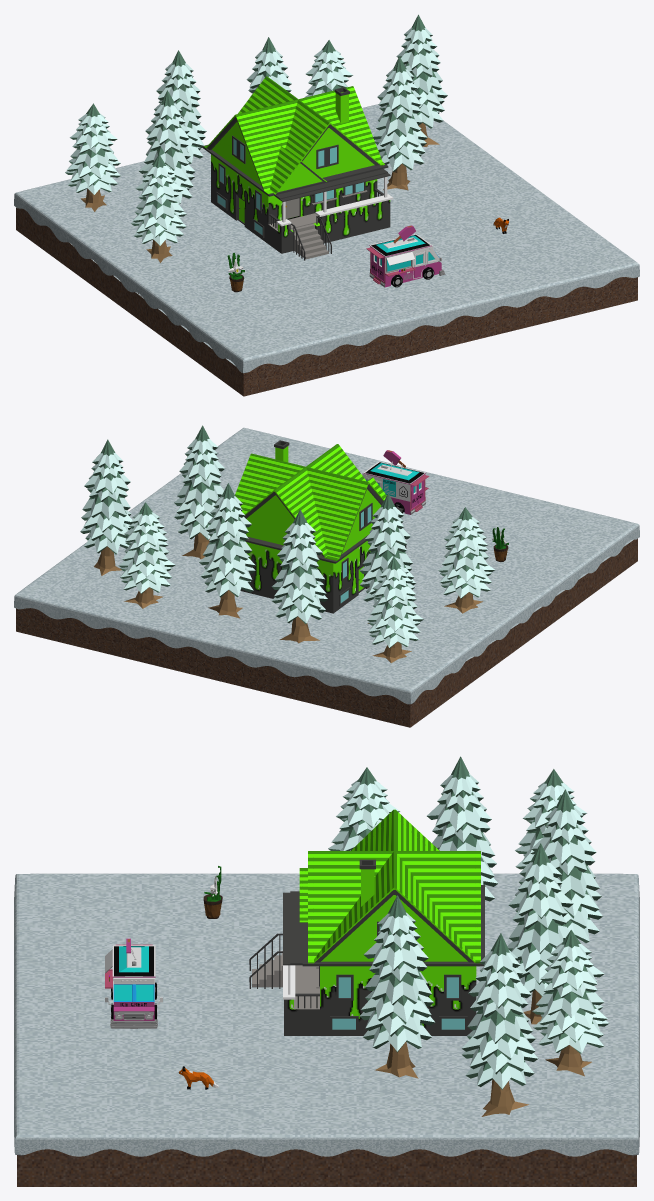
The picture shows the model from 3 angles, top to bottom: view 1: azimuth 30°, elevation 25°; view 2: azimuth 150°, elevation 25°; view 3: azimuth 270°, elevation 25°; orthographic projection. The views are drawn at different scales.
Visible parts, largest first — view 1: Cube.003, Cube.754, VEHICLES_ICE_CREAM_TRUCK; view 2: Cube.003, Cube.754, VEHICLES_ICE_CREAM_TRUCK; view 3: Cube.003, Cube.754, VEHICLES_ICE_CREAM_TRUCK, OBJRANDOM_MONJA BLANCA.
Part boxes in pixels (x1,y1,x2,y2): Cube.003: [14, 14, 639, 396]; Cube.754: [202, 76, 393, 260]; VEHICLES_ICE_CREAM_TRUCK: [366, 225, 445, 287]; Cube.003: [14, 425, 639, 727]; Cube.754: [235, 440, 406, 613]; VEHICLES_ICE_CREAM_TRUCK: [362, 450, 429, 514]; Cube.003: [14, 756, 639, 1186]; Cube.754: [249, 809, 484, 1035]; VEHICLES_ICE_CREAM_TRUCK: [105, 938, 162, 1028]; OBJRANDOM_MONJA BLANCA: [203, 866, 222, 918].
Size of the model in its own units: 4040 by 1692 by 4040.
44 materials, 4 textured.
